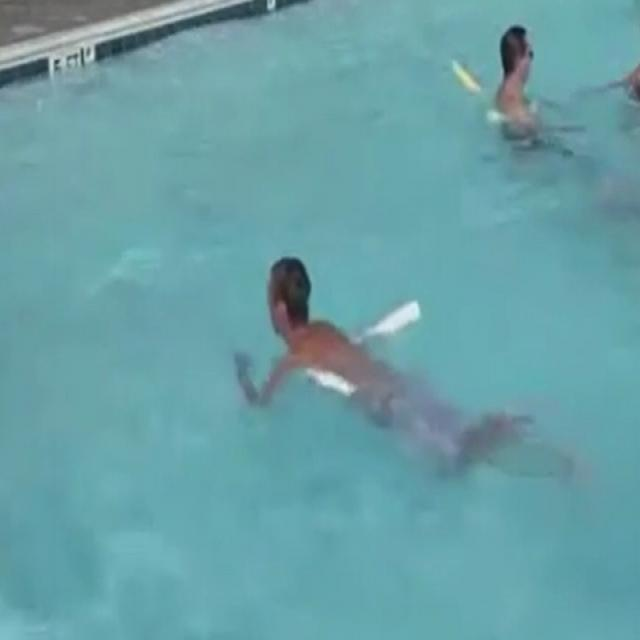swimming: (181, 224, 528, 468), (430, 0, 640, 184)
